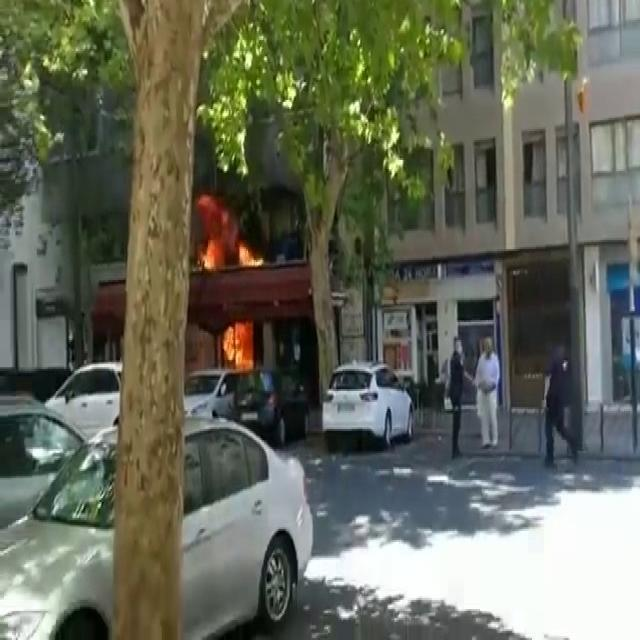Fire: (194, 208, 266, 276), (216, 310, 260, 376)
